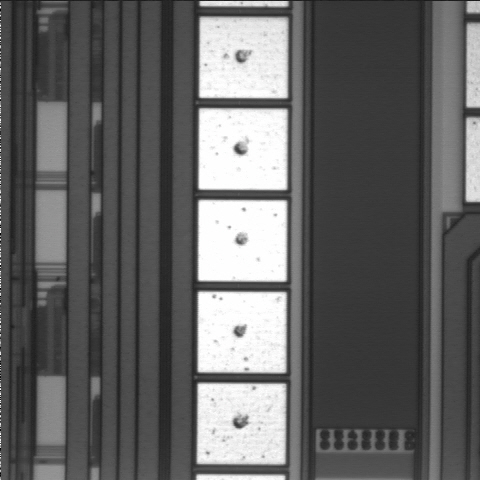pad: (198, 200, 287, 282), (199, 108, 287, 190), (199, 17, 288, 98), (198, 292, 287, 373), (197, 383, 286, 464)
